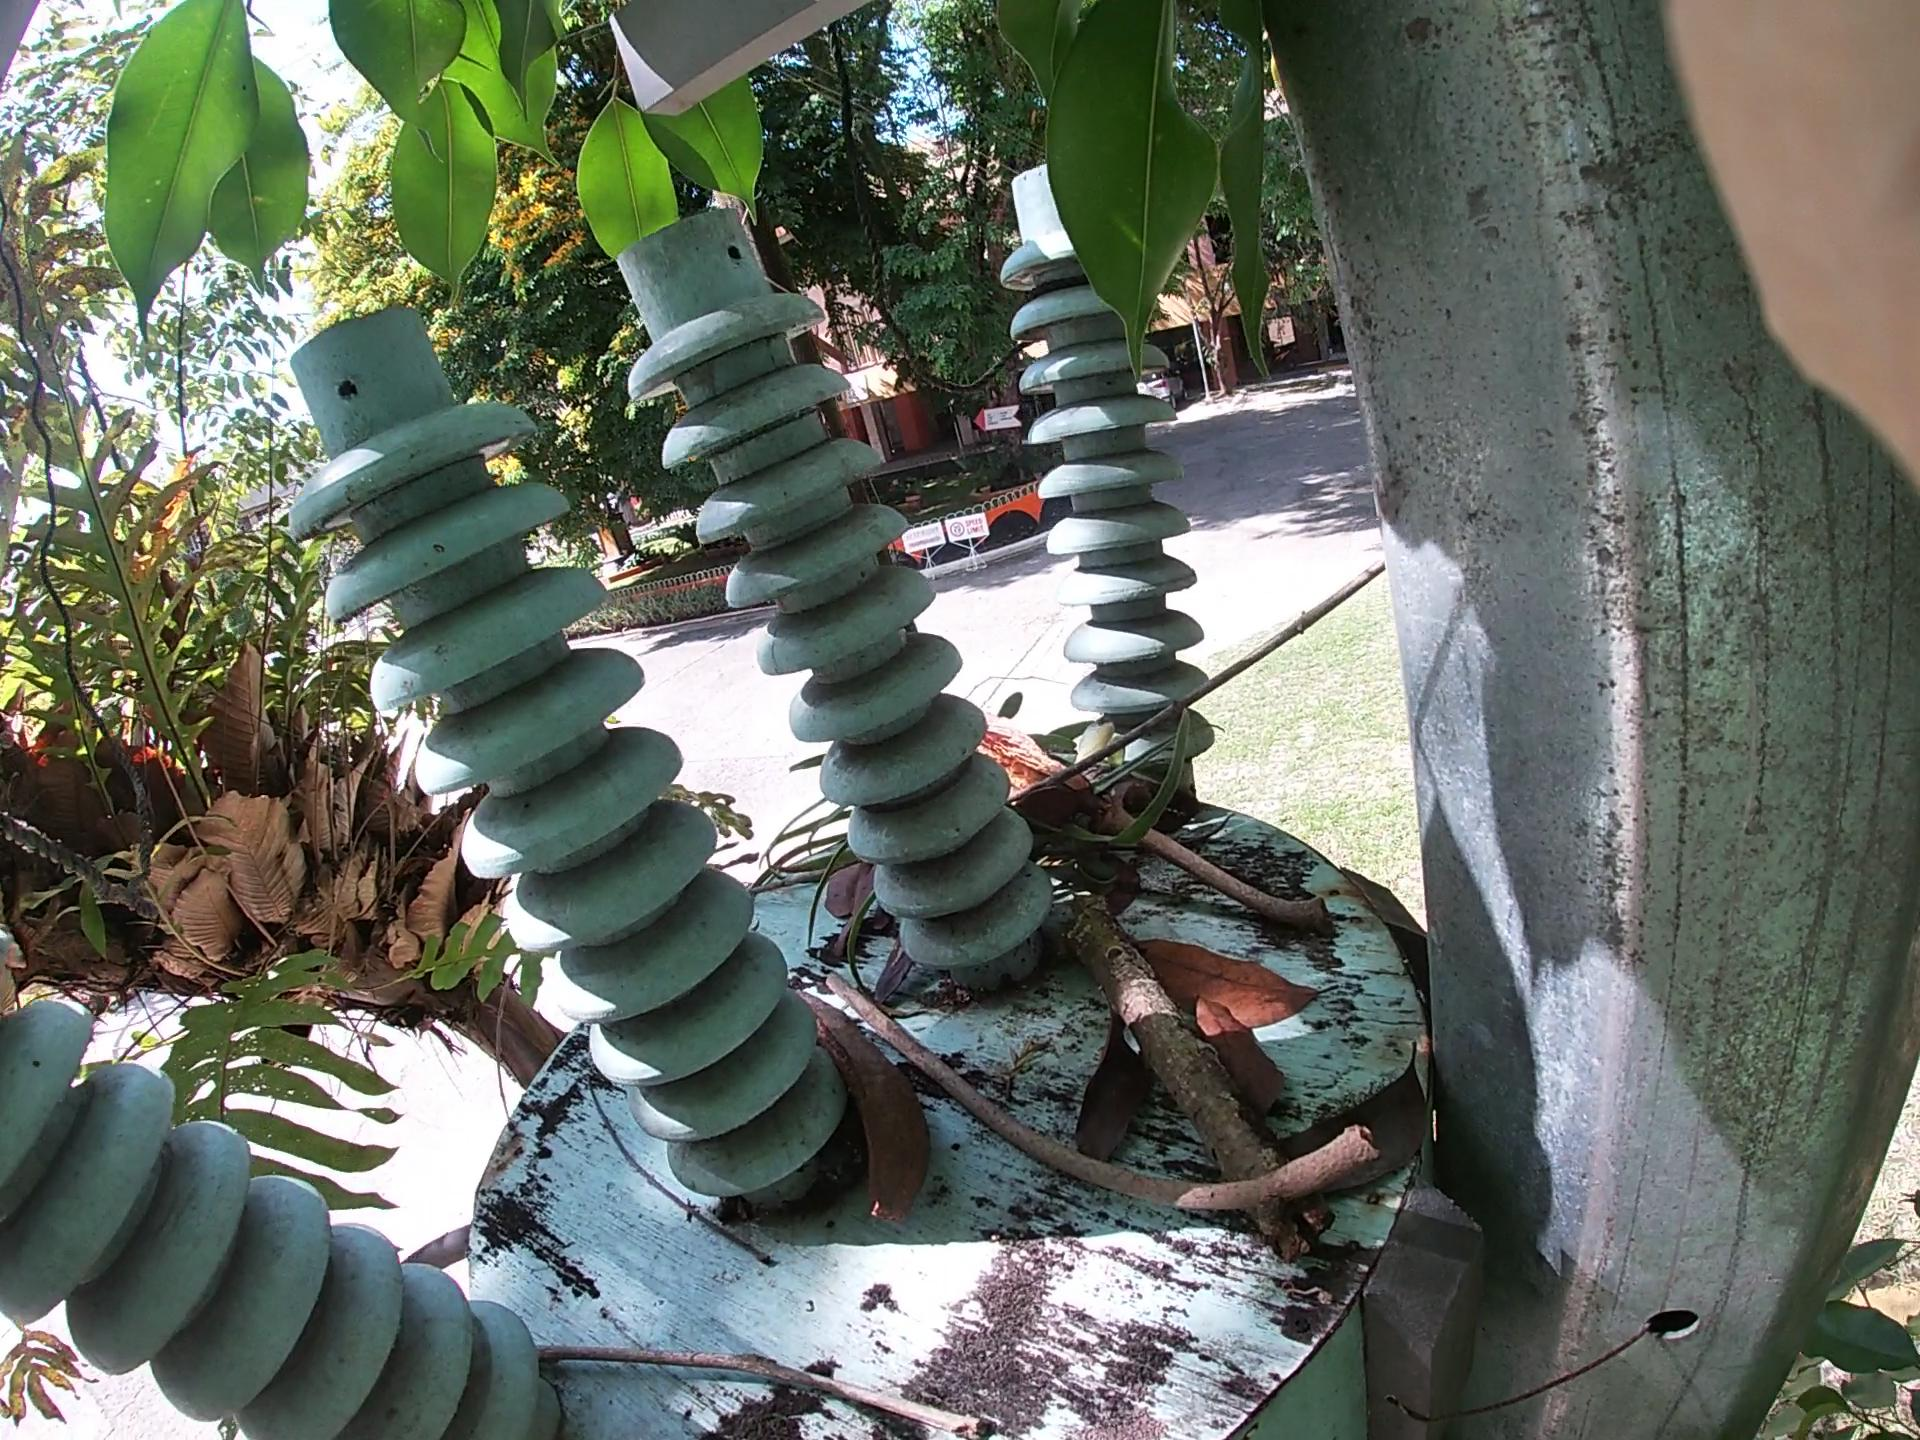branch with leaves: (948, 678, 1321, 1243)
leaf: (1082, 915, 1294, 1156)
tree branch: (972, 272, 1577, 883), (792, 889, 1361, 1275), (977, 691, 1407, 906), (578, 1246, 1129, 1413)
